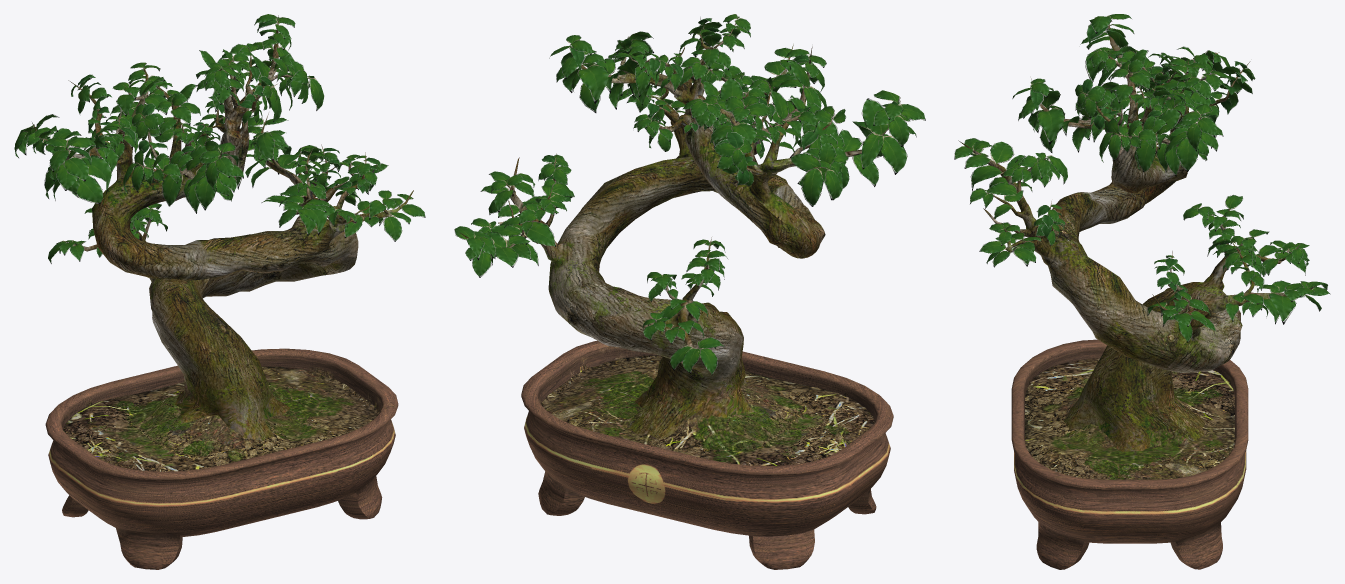
File: bonsai.glb
3 views of the same model, side by side, from view 1: azimuth 30°, elevation 25°; view 2: azimuth 150°, elevation 25°; view 3: azimuth 270°, elevation 25° (orthographic). The views are drawn at different scales.
Visible parts, largest first — view 1: Cube; view 2: Cube; view 3: Cube.
Part boxes in pixels (x1,y1,x2,y2): Cube: (14,14,425,569); Cube: (454,14,925,569); Cube: (954,14,1330,569).
Bounding box in the file's own units: 0.5474 × 0.6419 × 0.4809.
3 materials, 3 textured.
